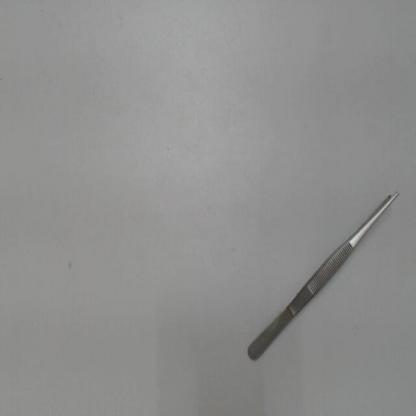Gillies Toothed Dissector: (240, 185, 410, 372)
